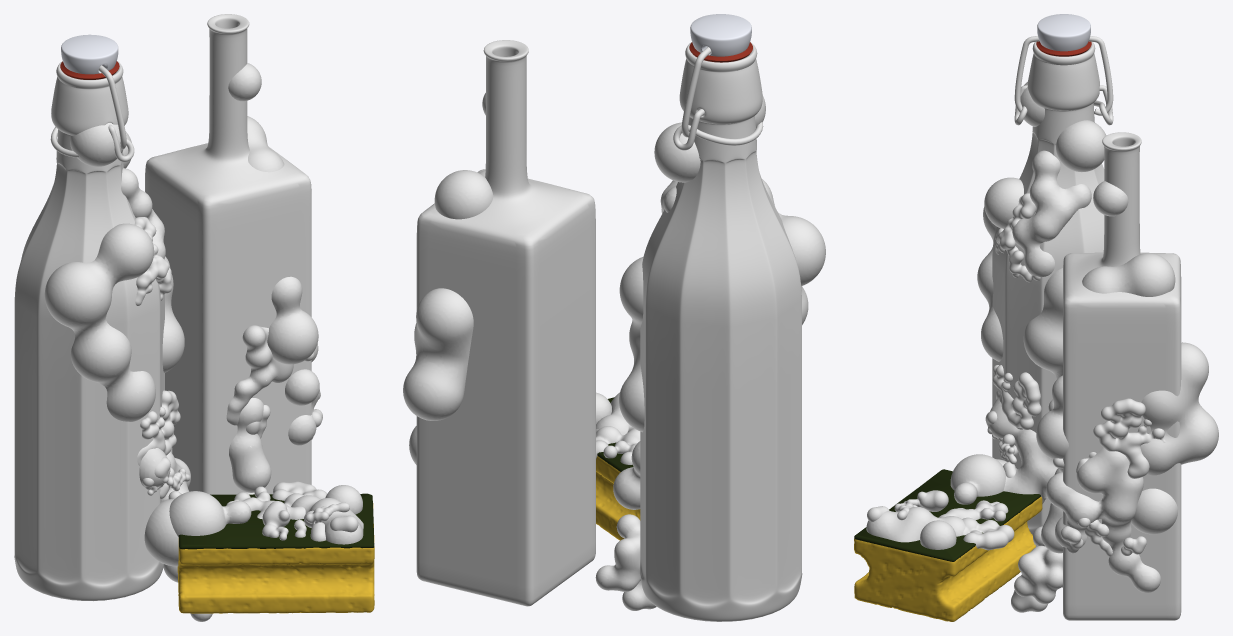
File: cleaningGlass.fbx
3 views of the same model, side by side, from view 1: azimuth 30°, elevation 25°; view 2: azimuth 150°, elevation 25°; view 3: azimuth 270°, elevation 25° (orthographic). The views are drawn at different scales.
Parts seen in each view (by area): view 1: Green glass bottle, Green glass bottle vase, bubbles, Sponge, milky foam, soapy foam1.001, soapy foam3, soapy foam1, Bouchon, soapy foam2, Fermeture, Fermeture.001; view 2: Green glass bottle, Green glass bottle vase, bubbles, soapy foam4, Bouchon, milky foam, Sponge, soapy foam1.001, Fermeture, Fermeture.001; view 3: Green glass bottle vase, bubbles, milky foam, Green glass bottle, Sponge, soapy foam1.002, soapy foam1.001, soapy foam1, soapy foam4, Bouchon, soapy foam3, soapy foam2 (+2 smaller).
Part boxes in pixels (left/top/right/bottom): Green glass bottle: left=14, top=61, right=164, bottom=601; Green glass bottle vase: left=145, top=14, right=311, bottom=494; bubbles: left=44, top=63, right=362, bottom=537; Sponge: left=177, top=493, right=374, bottom=613; milky foam: left=121, top=168, right=363, bottom=566; soapy foam1.001: left=226, top=481, right=358, bottom=541; soapy foam3: left=226, top=325, right=322, bottom=439; soapy foam1: left=137, top=390, right=190, bottom=499; Bouchon: left=61, top=34, right=118, bottom=74; soapy foam2: left=134, top=217, right=171, bottom=305; Fermeture: left=50, top=124, right=134, bottom=161; Fermeture.001: left=98, top=65, right=126, bottom=149; Green glass bottle: left=640, top=42, right=802, bottom=621; Green glass bottle vase: left=416, top=40, right=595, bottom=606; bubbles: left=403, top=93, right=825, bottom=464; soapy foam4: left=595, top=514, right=656, bottom=610; Bouchon: left=690, top=14, right=751, bottom=56; milky foam: left=596, top=180, right=677, bottom=509; Sponge: left=596, top=397, right=640, bottom=540; soapy foam1.001: left=596, top=424, right=640, bottom=464; Fermeture: left=673, top=109, right=763, bottom=150; Fermeture.001: left=681, top=47, right=711, bottom=137; Green glass bottle vase: left=1063, top=132, right=1181, bottom=620; bubbles: left=920, top=81, right=1218, bottom=549; milky foam: left=866, top=150, right=1160, bottom=592; Green glass bottle: left=992, top=41, right=1104, bottom=534; Sponge: left=854, top=469, right=1042, bottom=621; soapy foam1.002: left=1053, top=398, right=1165, bottom=478; soapy foam1.001: left=867, top=490, right=1014, bottom=550; soapy foam1: left=985, top=365, right=1041, bottom=477; soapy foam4: left=1011, top=526, right=1062, bottom=612; Bouchon: left=1037, top=14, right=1090, bottom=51; soapy foam3: left=1048, top=399, right=1146, bottom=556; soapy foam2: left=995, top=193, right=1040, bottom=282.
Bounding box in the file's own units: 286 × 514 × 310.
